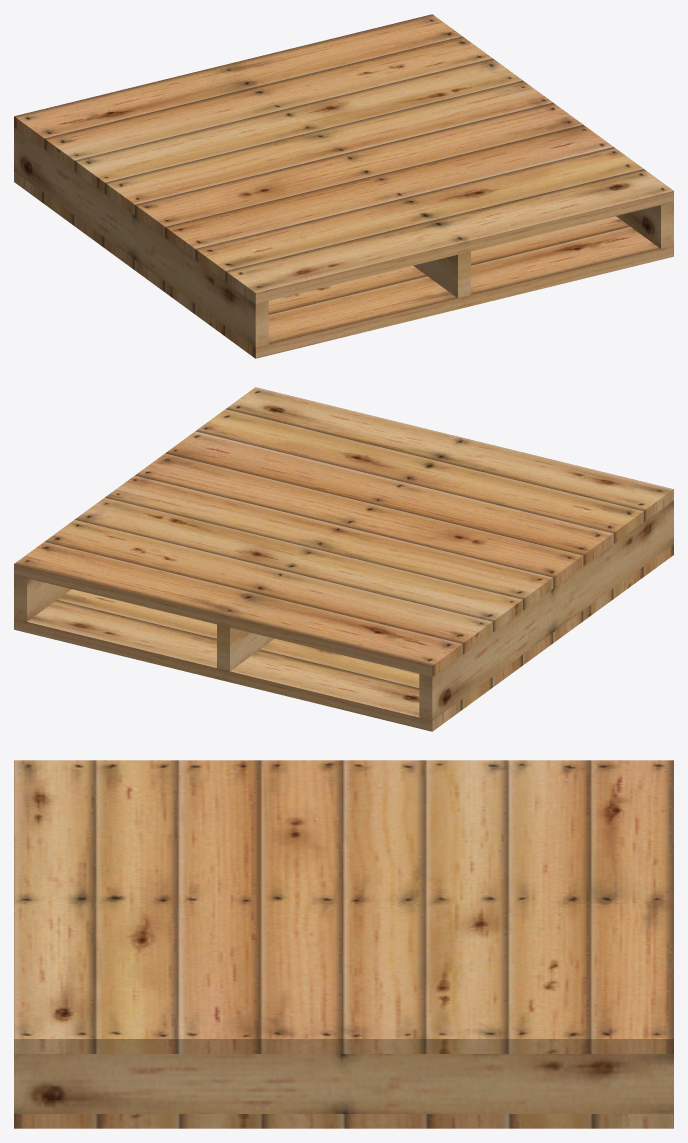
Rendered from pallet.fbx.
3 views of the same model, one above another, from view 1: azimuth 30°, elevation 25°; view 2: azimuth 150°, elevation 25°; view 3: azimuth 270°, elevation 25° (orthographic). The views are drawn at different scales.
Visible parts, largest first — view 1: mesh_0; view 2: mesh_0; view 3: mesh_0.
Part boxes in pixels (bbox=[...]): mesh_0: bbox=[14, 14, 673, 358]; mesh_0: bbox=[14, 387, 673, 731]; mesh_0: bbox=[14, 760, 673, 1128].
Bounding box in the file's own units: 160 × 24 × 160.
1 material, 1 textured.
